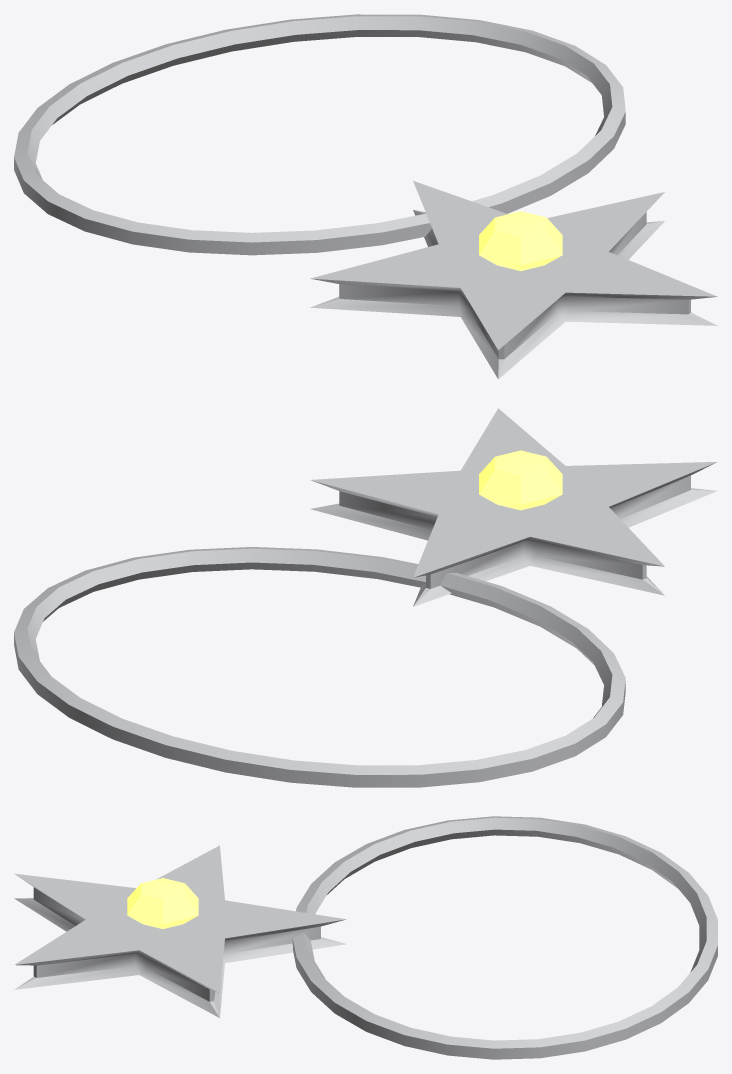
Rendered from star_pendant.glb.
3 renders of one model, top to bottom at view 1: azimuth 30°, elevation 25°; view 2: azimuth 150°, elevation 25°; view 3: azimuth 270°, elevation 25°, orthographic. The views are drawn at different scales.
Parts seen in each view (by area): view 1: star_pendant; view 2: star_pendant; view 3: star_pendant.
Part boxes in pixels (bbox=[...]): star_pendant: bbox=[14, 14, 717, 379]; star_pendant: bbox=[14, 408, 716, 787]; star_pendant: bbox=[14, 816, 717, 1059].
Bounding box in the file's own units: 0.0803 × 0.0102 × 0.1028.
